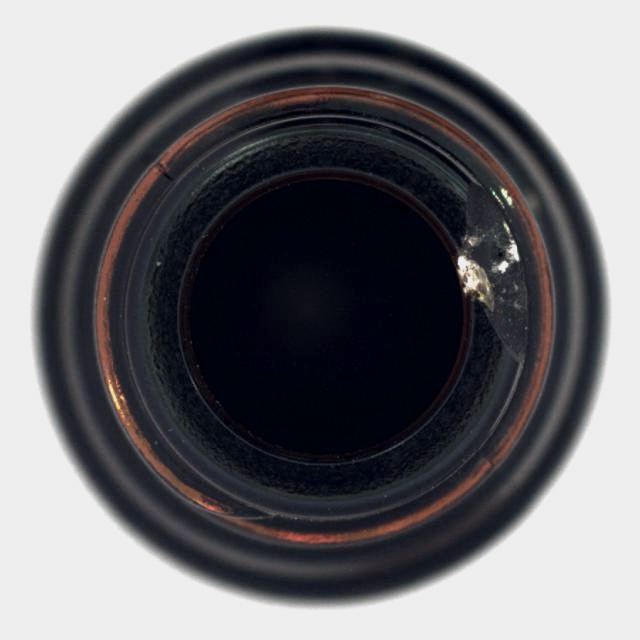bad-broken_small: (30, 25, 611, 609)
